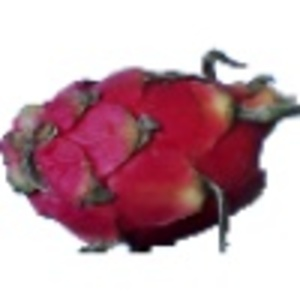pitaia: (1, 48, 300, 256)
